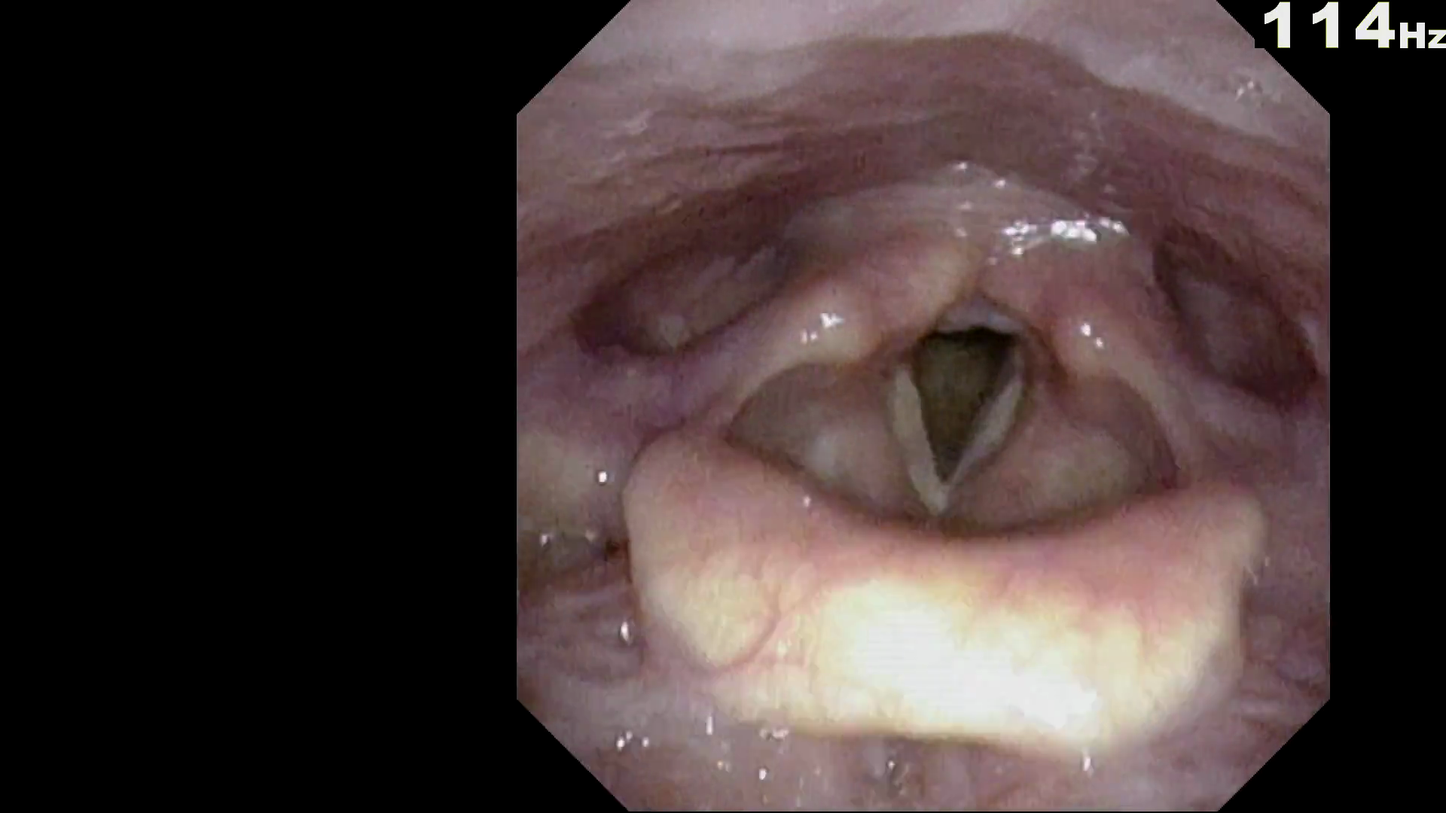epiglottis: (587, 433, 1277, 727)
trachea: (864, 319, 1043, 544)
